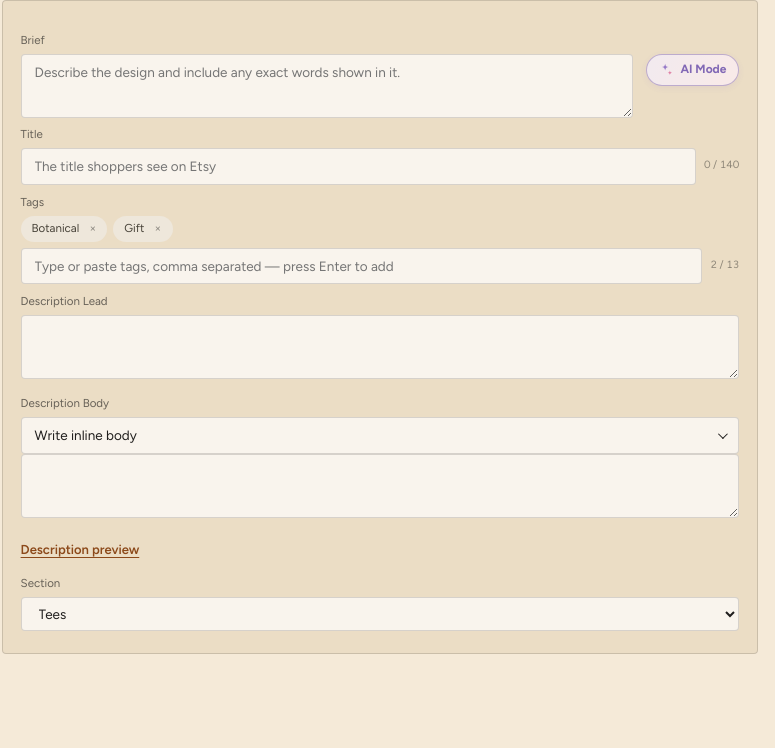
DetailsTab › creates and selects a new shop section from the dropdown
The image size is (775, 748).
Select "Create new section…" in the dropdown labelled "Section" at (380,614), box left=21, top=596, right=739, bottom=630
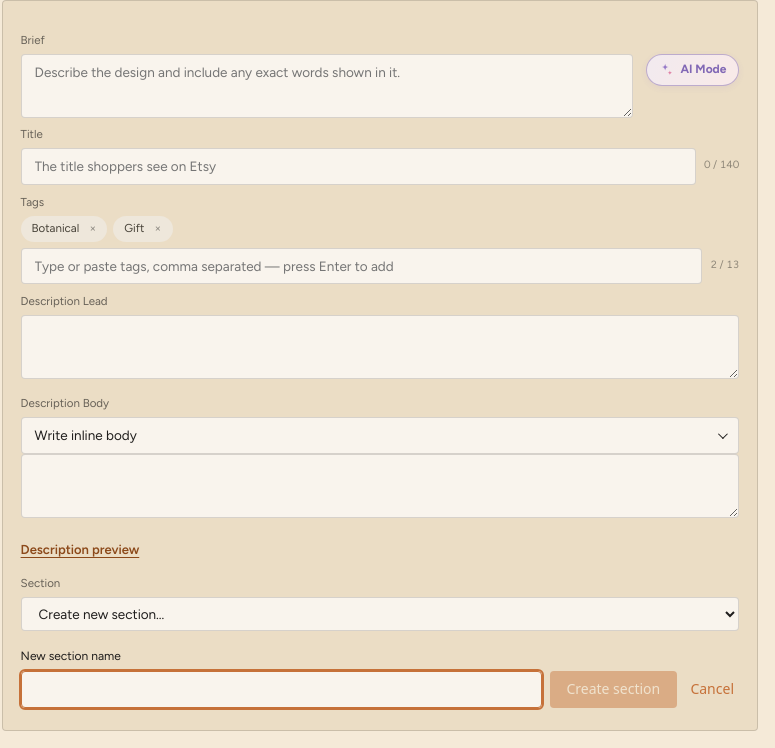
Type "  Trail Gear  " into the field labelled "New section name".
click(281, 689); type("  Trail Gear  ")  # box left=21, top=671, right=542, bottom=708
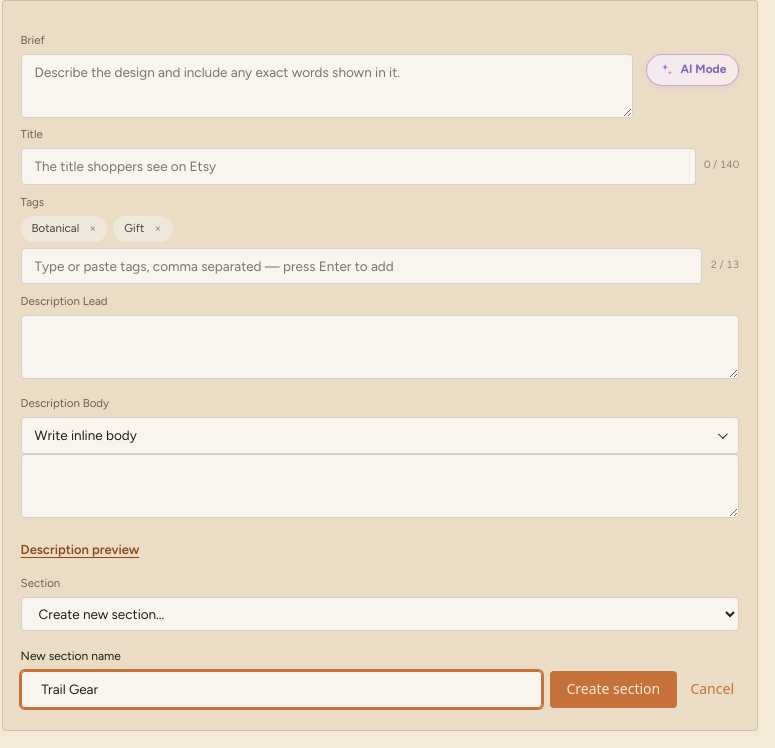
Click the button "Create section".
click(613, 690)  # box left=550, top=672, right=677, bottom=708
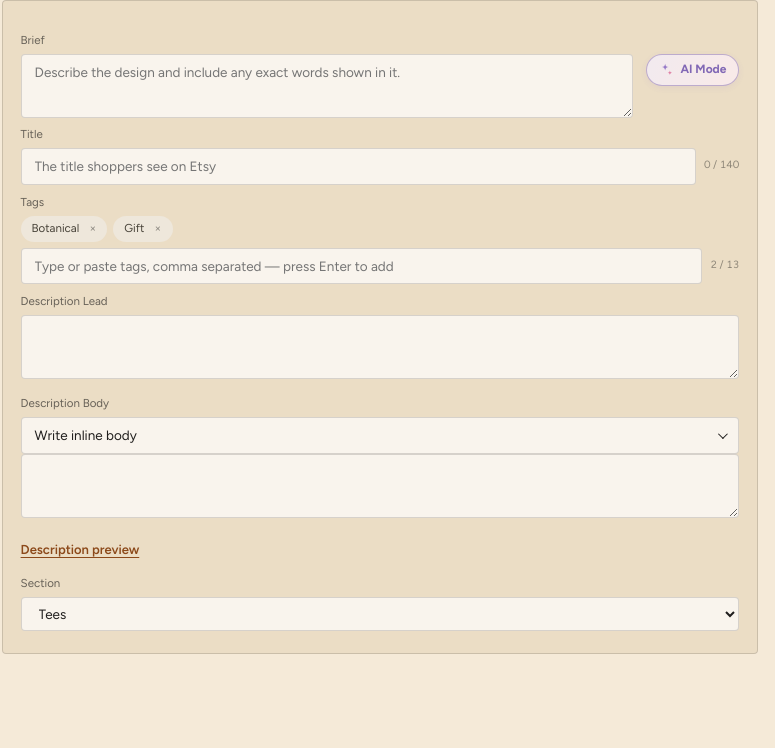
Result: the label labelled "New section name" is gone
